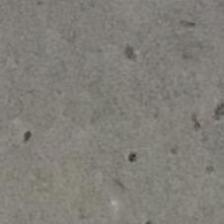Non_Crack: (36, 0, 111, 220)
